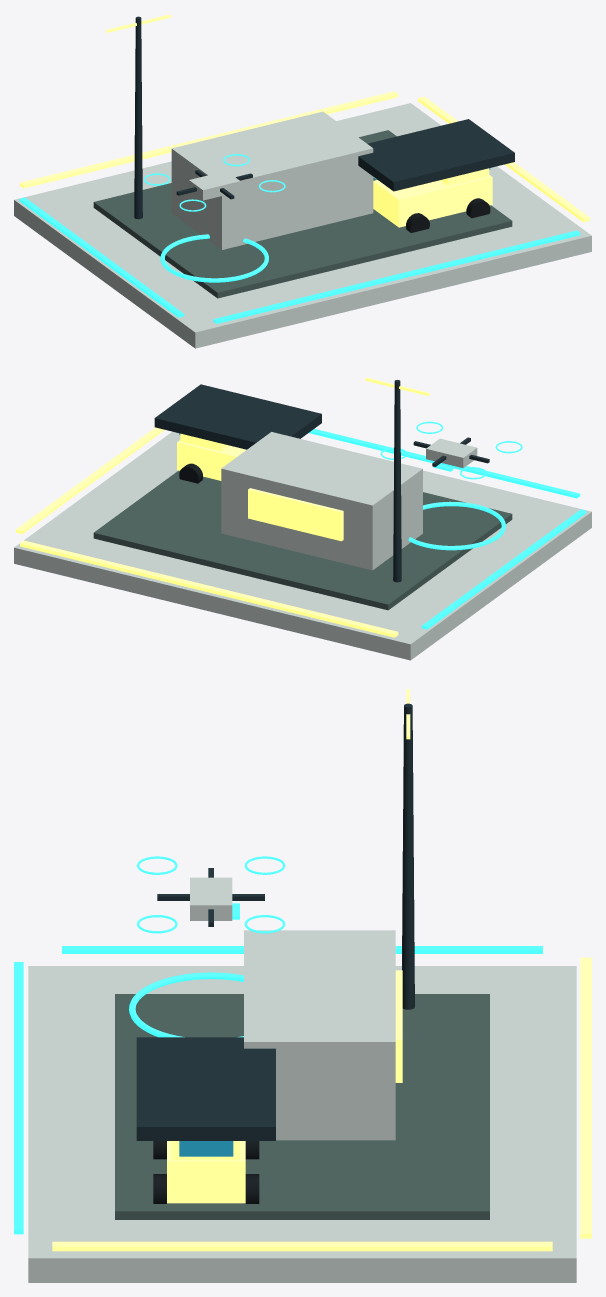
Rendered from field-service-landmark.glb.
3 renders of one model, top to bottom at view 1: azimuth 30°, elevation 25°; view 2: azimuth 150°, elevation 25°; view 3: azimuth 270°, elevation 25°, orthographic. The views are drawn at different scales.
Parts seen in each view (by area): view 1: rj-field-service-landmark-clickable-district-pad, rj-field-service-landmark-outpost-module, rj-field-service-landmark-inner-service-plaza, rj-field-service-landmark-vehicle-bay-roof, rj-field-service-landmark-maintenance-rover-body, rj-field-service-landmark-rear-service-rail, rj-field-service-landmark-front-status-rail, rj-field-service-landmark-radio-mast, rj-field-service-landmark-left-service-rail, rj-field-service-landmark-right-status-rail, rj-field-service-landmark-drone-launch-pad, rj-field-service-landmark-dispatch-drone-body; view 2: rj-field-service-landmark-clickable-district-pad, rj-field-service-landmark-inner-service-plaza, rj-field-service-landmark-outpost-module, rj-field-service-landmark-vehicle-bay-roof, rj-field-service-landmark-dispatch-glass, rj-field-service-landmark-front-status-rail, rj-field-service-landmark-radio-mast, rj-field-service-landmark-maintenance-rover-body, rj-field-service-landmark-rear-service-rail, rj-field-service-landmark-right-status-rail, rj-field-service-landmark-left-service-rail, rj-field-service-landmark-dispatch-drone-body (+2 smaller); view 3: rj-field-service-landmark-clickable-district-pad, rj-field-service-landmark-inner-service-plaza, rj-field-service-landmark-outpost-module, rj-field-service-landmark-vehicle-bay-roof, rj-field-service-landmark-right-status-rail, rj-field-service-landmark-maintenance-rover-body, rj-field-service-landmark-radio-mast, rj-field-service-landmark-front-status-rail, rj-field-service-landmark-rear-service-rail, rj-field-service-landmark-left-service-rail, rj-field-service-landmark-dispatch-drone-body, rj-field-service-landmark-drone-launch-pad (+2 smaller).
Part boxes in pixels (x1=…): rj-field-service-landmark-clickable-district-pad: x1=14, y1=103, x2=591, y2=348; rj-field-service-landmark-outpost-module: x1=171, y1=111, x2=373, y2=249; rj-field-service-landmark-inner-service-plaza: x1=93, y1=130, x2=512, y2=298; rj-field-service-landmark-vehicle-bay-roof: x1=358, y1=119, x2=514, y2=191; rj-field-service-landmark-maintenance-rover-body: x1=373, y1=175, x2=492, y2=227; rj-field-service-landmark-rear-service-rail: x1=213, y1=230, x2=580, y2=323; rj-field-service-landmark-front-status-rail: x1=20, y1=91, x2=398, y2=188; rj-field-service-landmark-radio-mast: x1=134, y1=16, x2=142, y2=219; rj-field-service-landmark-left-service-rail: x1=19, y1=197, x2=184, y2=317; rj-field-service-landmark-right-status-rail: x1=418, y1=96, x2=589, y2=222; rj-field-service-landmark-drone-launch-pad: x1=160, y1=234, x2=268, y2=282; rj-field-service-landmark-dispatch-drone-body: x1=189, y1=171, x2=240, y2=200; rj-field-service-landmark-clickable-district-pad: x1=14, y1=431, x2=591, y2=660; rj-field-service-landmark-inner-service-plaza: x1=93, y1=470, x2=512, y2=610; rj-field-service-landmark-outpost-module: x1=221, y1=432, x2=422, y2=570; rj-field-service-landmark-vehicle-bay-roof: x1=154, y1=384, x2=321, y2=449; rj-field-service-landmark-dispatch-glass: x1=248, y1=488, x2=343, y2=541; rj-field-service-landmark-front-status-rail: x1=20, y1=540, x2=398, y2=637; rj-field-service-landmark-radio-mast: x1=393, y1=380, x2=401, y2=582; rj-field-service-landmark-maintenance-rover-body: x1=177, y1=440, x2=246, y2=480; rj-field-service-landmark-rear-service-rail: x1=309, y1=429, x2=580, y2=498; rj-field-service-landmark-right-status-rail: x1=16, y1=427, x2=164, y2=534; rj-field-service-landmark-left-service-rail: x1=421, y1=509, x2=586, y2=629; rj-field-service-landmark-dispatch-drone-body: x1=426, y1=438, x2=477, y2=468; rj-field-service-landmark-clickable-district-pad: x1=28, y1=966, x2=576, y2=1282; rj-field-service-landmark-inner-service-plaza: x1=115, y1=994, x2=489, y2=1219; rj-field-service-landmark-outpost-module: x1=244, y1=930, x2=395, y2=1140; rj-field-service-landmark-vehicle-bay-roof: x1=136, y1=1037, x2=275, y2=1140; rj-field-service-landmark-right-status-rail: x1=52, y1=1241, x2=552, y2=1251; rj-field-service-landmark-maintenance-rover-body: x1=167, y1=1141, x2=245, y2=1203; rj-field-service-landmark-radio-mast: x1=402, y1=703, x2=414, y2=1009; rj-field-service-landmark-front-status-rail: x1=580, y1=957, x2=591, y2=1238; rj-field-service-landmark-rear-service-rail: x1=14, y1=962, x2=23, y2=1234; rj-field-service-landmark-left-service-rail: x1=62, y1=946, x2=542, y2=953; rj-field-service-landmark-dispatch-drone-body: x1=190, y1=877, x2=232, y2=920; rj-field-service-landmark-drone-launch-pad: x1=129, y1=972, x2=243, y2=1037.
Size of the model in its own units: 7.41 by 3.85 by 6.01.
